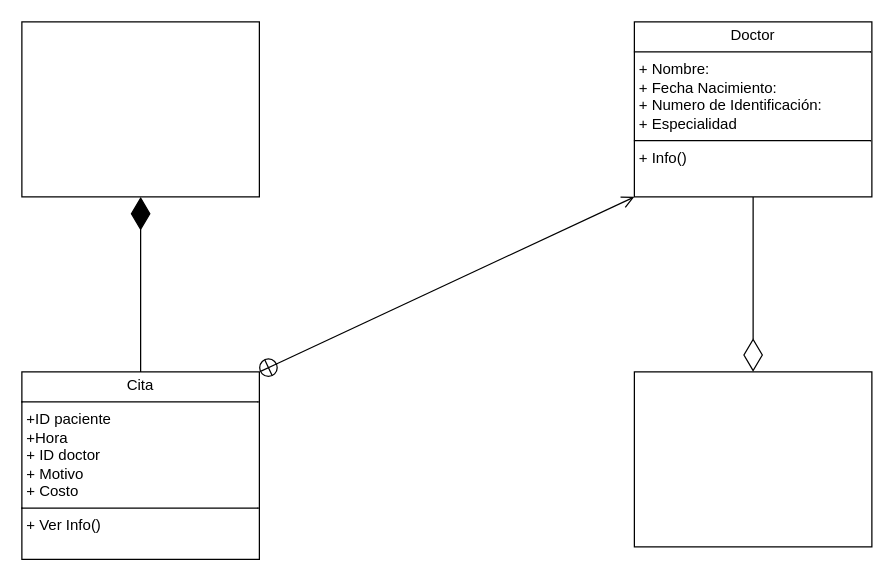
Image size: 894x581. Some labels were removed from this diagram. Each missing label, with the centre of its shape:
"Historia Clínica. + ID Cita +ID Doctor +Id Paciente + Ver Info()" goes at (x=752, y=459).
"Paciente + Nombre: + Fecha Nacimiento: + Numero de Identificación: + Ver info()" goes at (x=140, y=109).
